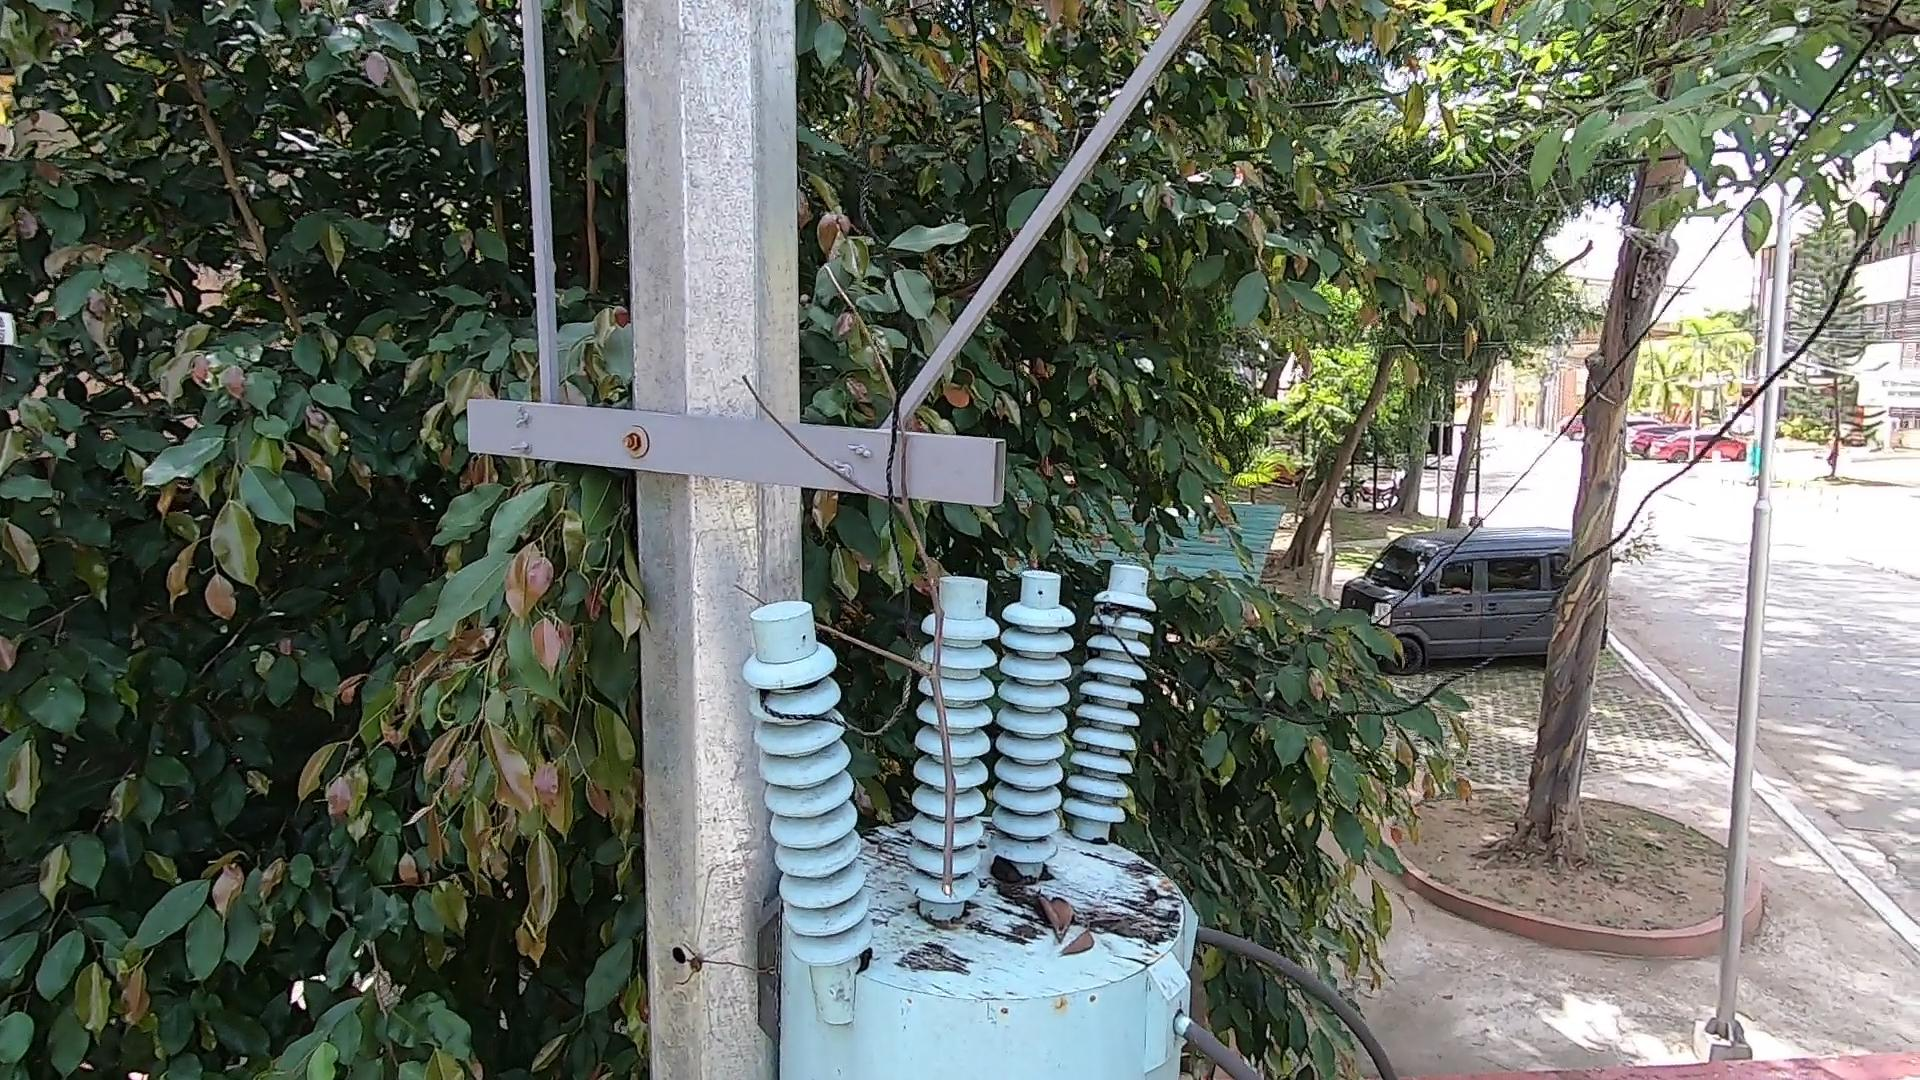leaf: (982, 858, 1095, 959)
tree branch: (713, 251, 990, 899)
